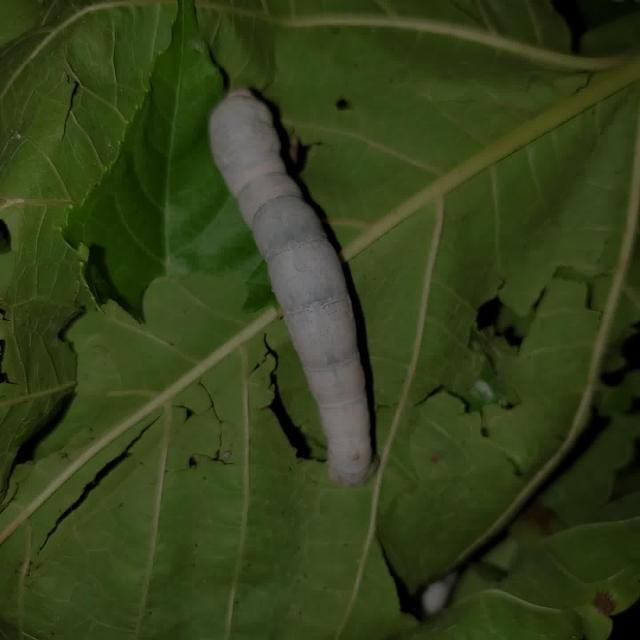Healthy: (178, 57, 419, 502)
